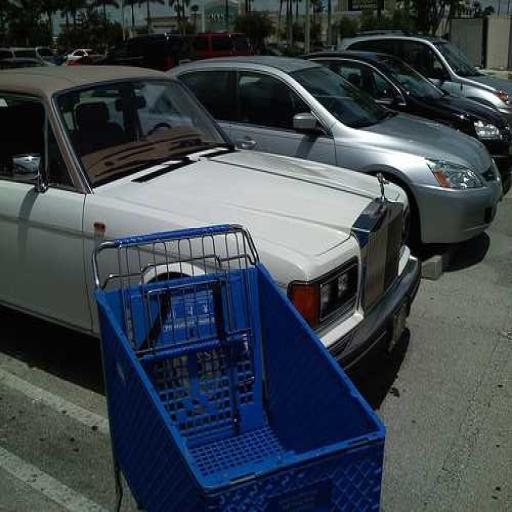shopping_cart: (92, 220, 389, 512)
